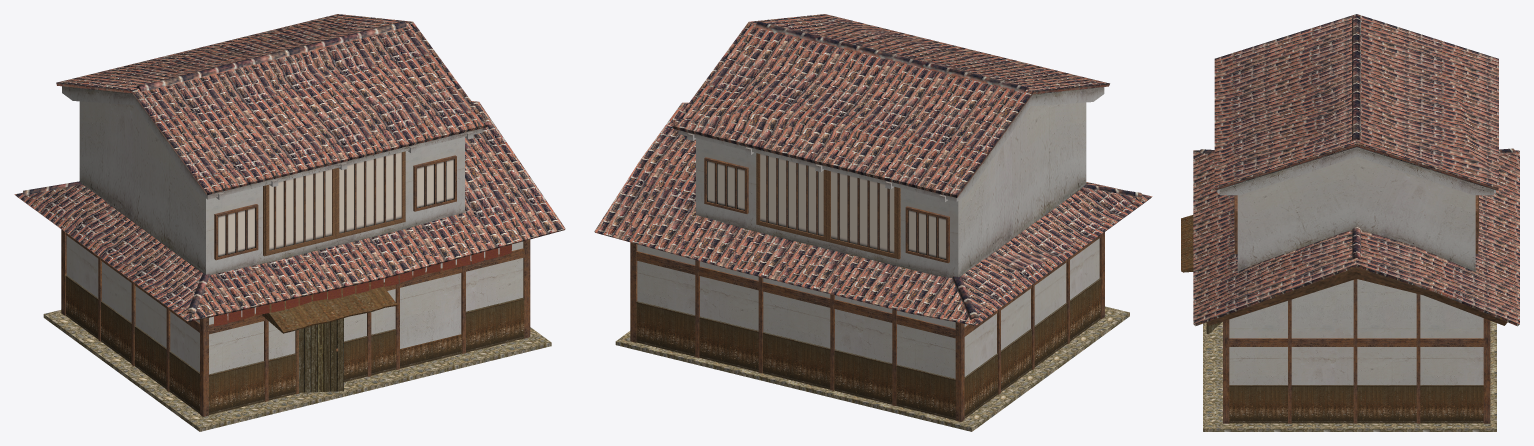
Rendered from House1_Export_1.fbx.
3 renders of one model, left to right at view 1: azimuth 30°, elevation 25°; view 2: azimuth 150°, elevation 25°; view 3: azimuth 270°, elevation 25°, orthographic. The views are drawn at different scales.
Parts seen in each view (by area): view 1: House_1; view 2: House_1; view 3: House_1.
Part boxes in pixels (x1,y1,x2,y2): House_1: (14,14,565,431); House_1: (594,14,1152,431); House_1: (1181,14,1519,431).
Size of the model in its own units: 918 by 651 by 755.
Materials: 6 (6 with a texture image).
